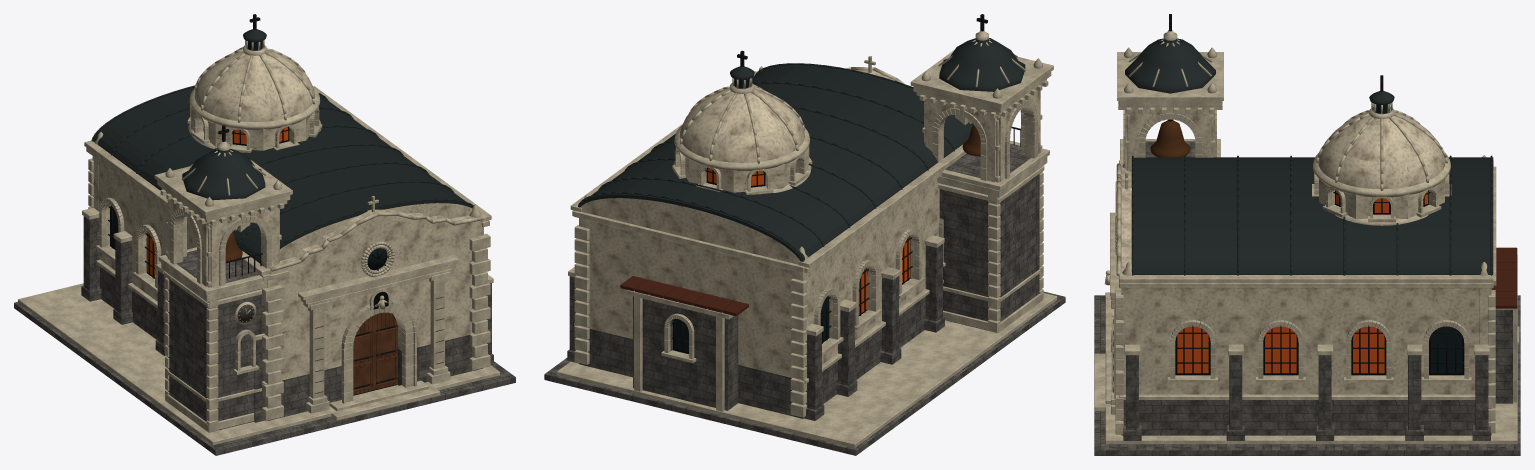
The model's file is iglesia_mixquic_v2.obj.
The picture shows the model from 3 angles, left to right: view 1: azimuth 30°, elevation 25°; view 2: azimuth 150°, elevation 25°; view 3: azimuth 270°, elevation 25°; orthographic projection. The views are drawn at different scales.
Parts seen in each view (by area): view 1: Iglesia_Mixquic_V2; view 2: Iglesia_Mixquic_V2; view 3: Iglesia_Mixquic_V2.
Boxes of the visible parts, box(x1,y1,x2,y2) form: Iglesia_Mixquic_V2: box(14, 14, 515, 455); Iglesia_Mixquic_V2: box(544, 14, 1065, 455); Iglesia_Mixquic_V2: box(1094, 14, 1520, 455).
Bounding box in the file's own units: 8.96 × 8.52 × 10.43.
Materials: 12 (4 with a texture image).
